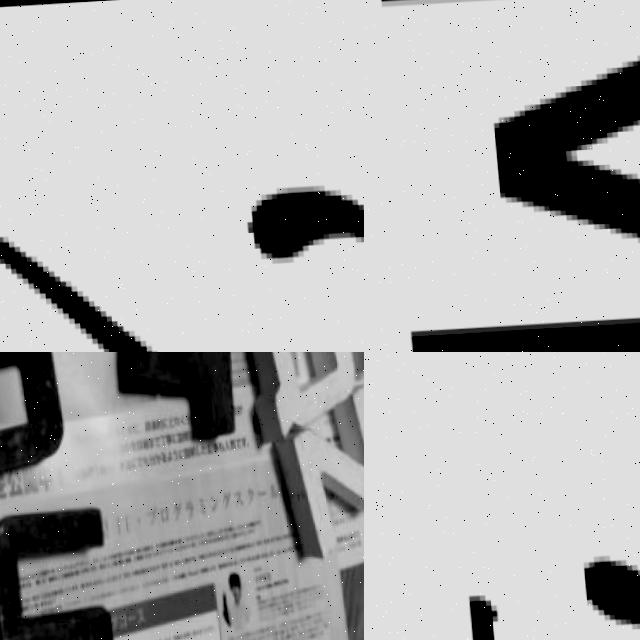2: (0, 151, 364, 352)
3: (364, 410, 640, 640)
M: (366, 0, 640, 352)
O: (0, 352, 64, 485)
Q: (242, 352, 354, 451)
T: (119, 352, 240, 433)
U: (0, 516, 112, 640)
Z: (279, 397, 364, 567)
